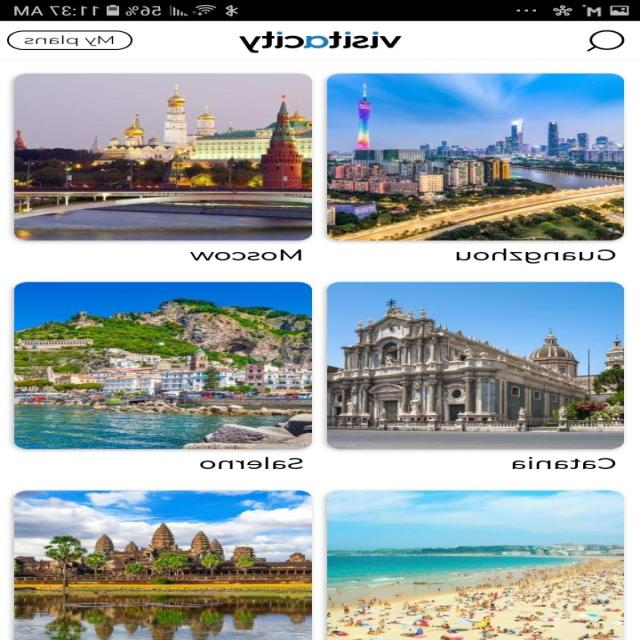Icon: (586, 30, 626, 52)
Image: (327, 281, 624, 449), (15, 282, 313, 449), (15, 73, 313, 240), (327, 73, 624, 240), (15, 490, 313, 639), (327, 490, 624, 639), (239, 31, 403, 53)
Text: (456, 248, 616, 264), (512, 456, 616, 469), (190, 248, 302, 260), (200, 456, 303, 469)
TextButton: (8, 30, 134, 50)
